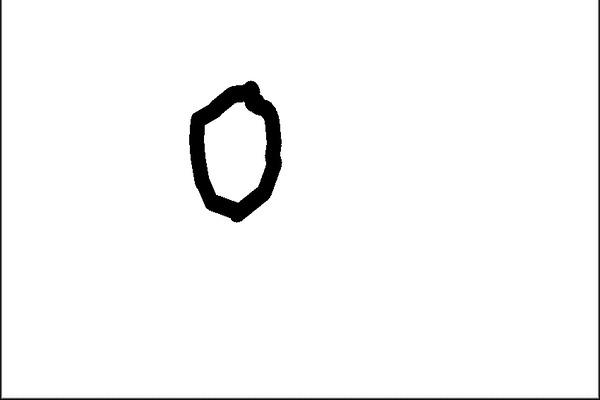O: (170, 79, 294, 225)
